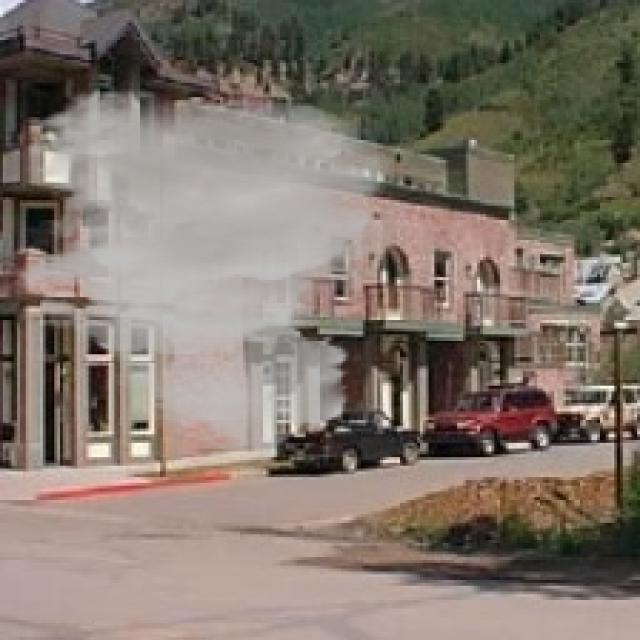smoke: (17, 89, 440, 474)
